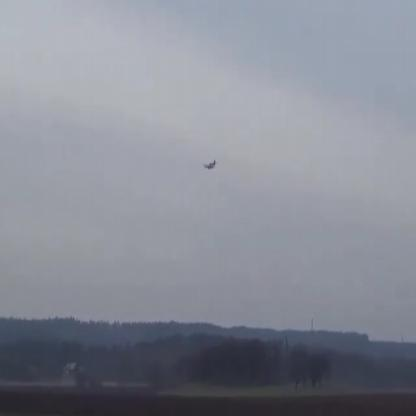CIV_Plane: (202, 158, 216, 170)
